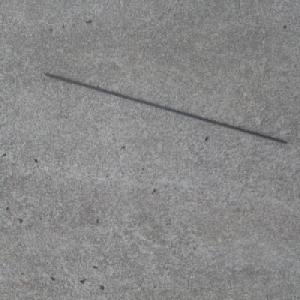LuggagePart: (42, 71, 289, 144)
